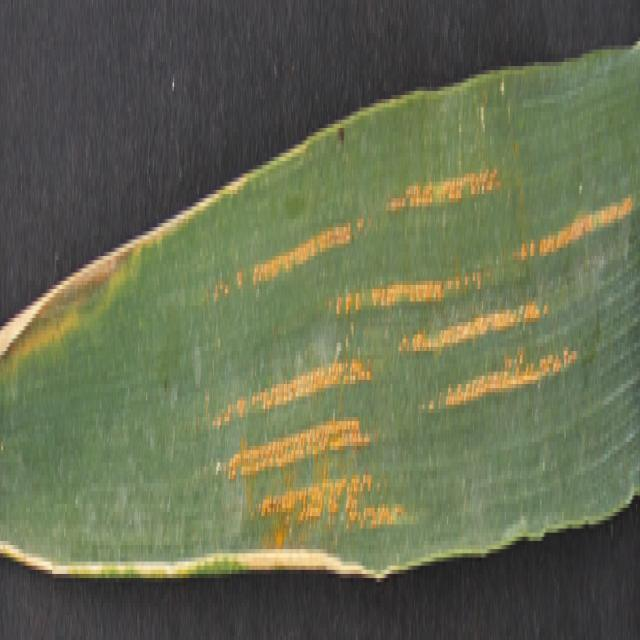leaf rust: (203, 103, 634, 545)
